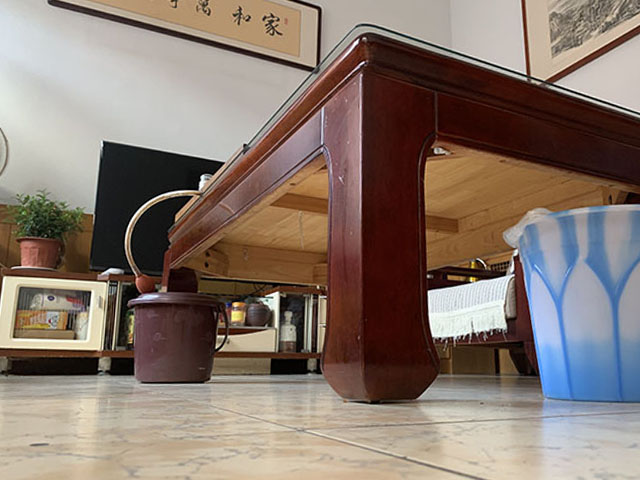cabinet: (1, 266, 113, 378)
table: (158, 19, 639, 405)
trashcan: (504, 201, 640, 405), (126, 290, 230, 384)
